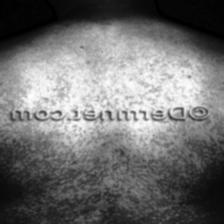Toxin: (3, 134, 212, 224)
